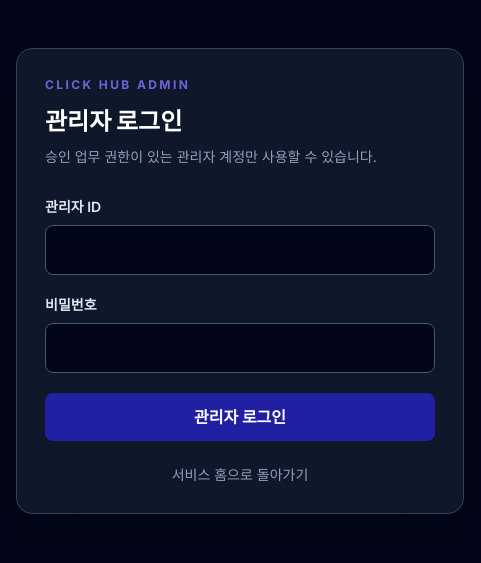
Test: AdminLoginView › shows authentication failures without leaving the page
Type "admin" into the field named "username" at (240, 250), box left=45, top=225, right=435, bottom=275
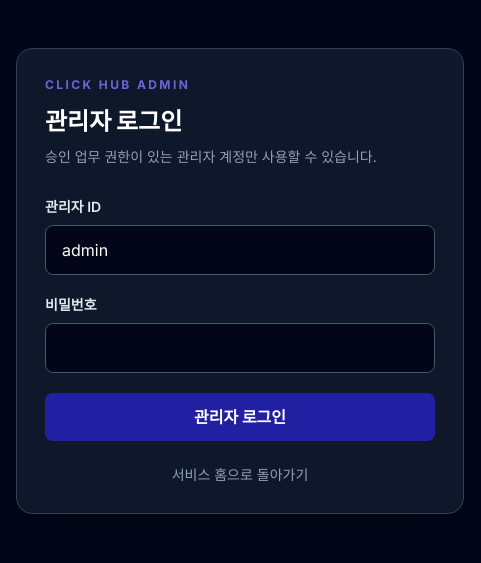
Type "wrong" into the password field named "password" at (240, 348), box left=45, top=323, right=435, bottom=373
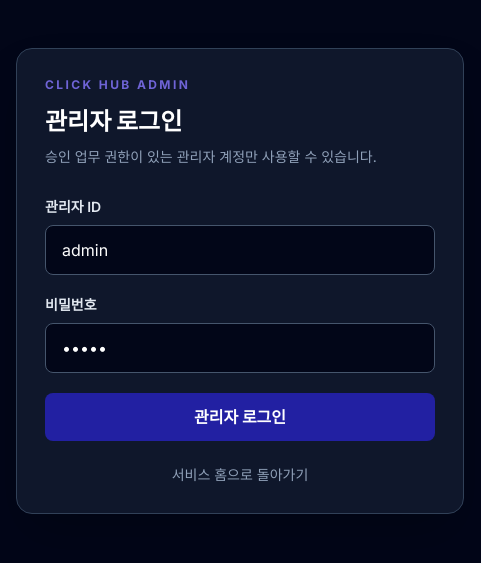
Submit the form, box left=45, top=197, right=435, bottom=441
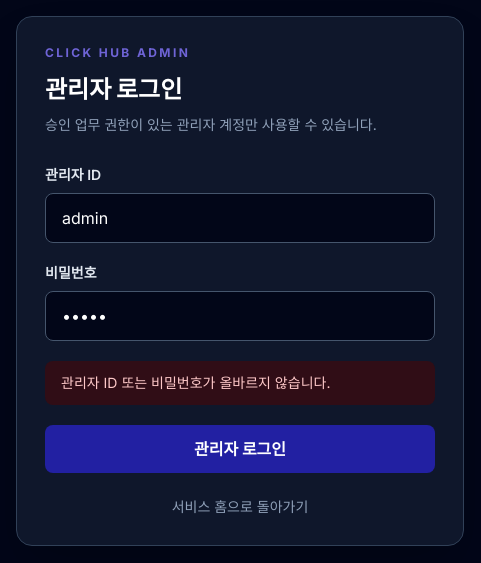
Expected: the message "관리자 ID 또는 비밀번호가 올바르지 않습니다." is shown, left=45, top=361, right=435, bottom=405
